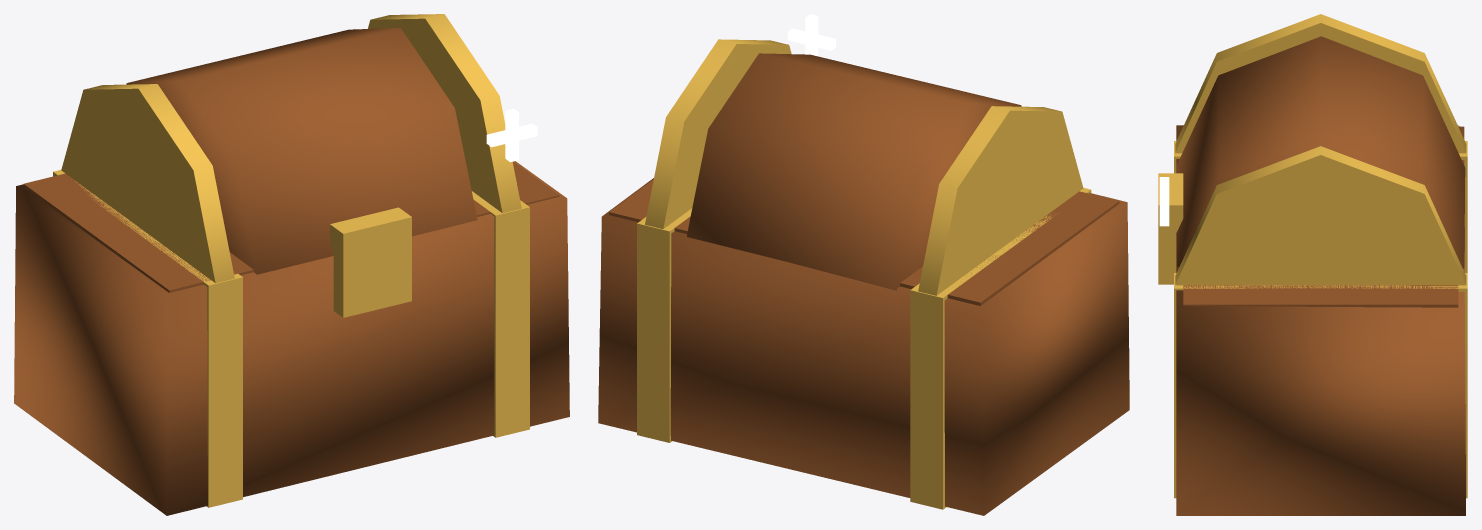
Rendered from stage1_chest.glb.
The picture shows the model from 3 angles, left to right: view 1: azimuth 30°, elevation 25°; view 2: azimuth 150°, elevation 25°; view 3: azimuth 270°, elevation 25°; orthographic projection. The views are drawn at different scales.
Parts seen in each view (by area): view 1: stage1_chest_chestWood, lid_chestWood, lid_chestBand, stage1_chest_chestBand, sparkle_spark; view 2: stage1_chest_chestWood, lid_chestWood, lid_chestBand, stage1_chest_chestBand, sparkle_spark; view 3: stage1_chest_chestWood, lid_chestBand, lid_chestWood, stage1_chest_chestBand, sparkle_spark.
Boxes of the visible parts, bbox=[...] form: stage1_chest_chestWood: bbox=[14, 161, 569, 515]; lid_chestWood: bbox=[23, 27, 559, 292]; lid_chestBand: bbox=[61, 14, 521, 317]; stage1_chest_chestBand: bbox=[53, 170, 529, 507]; sparkle_spark: bbox=[486, 108, 537, 162]; stage1_chest_chestWood: bbox=[598, 178, 1129, 515]; lid_chestWood: bbox=[609, 53, 1119, 305]; lid_chestBand: bbox=[645, 39, 1083, 295]; stage1_chest_chestBand: bbox=[637, 187, 1091, 509]; sparkle_spark: bbox=[787, 14, 835, 56]; stage1_chest_chestWood: bbox=[1176, 125, 1465, 515]; lid_chestBand: bbox=[1158, 14, 1466, 285]; lid_chestWood: bbox=[1176, 36, 1465, 307]; stage1_chest_chestBand: bbox=[1174, 141, 1467, 498]; sparkle_spark: bbox=[1159, 177, 1169, 226].
Size of the model in its own units: 0.7042 by 0.6 by 0.495.
